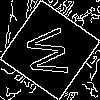W: (25, 25, 78, 80)
